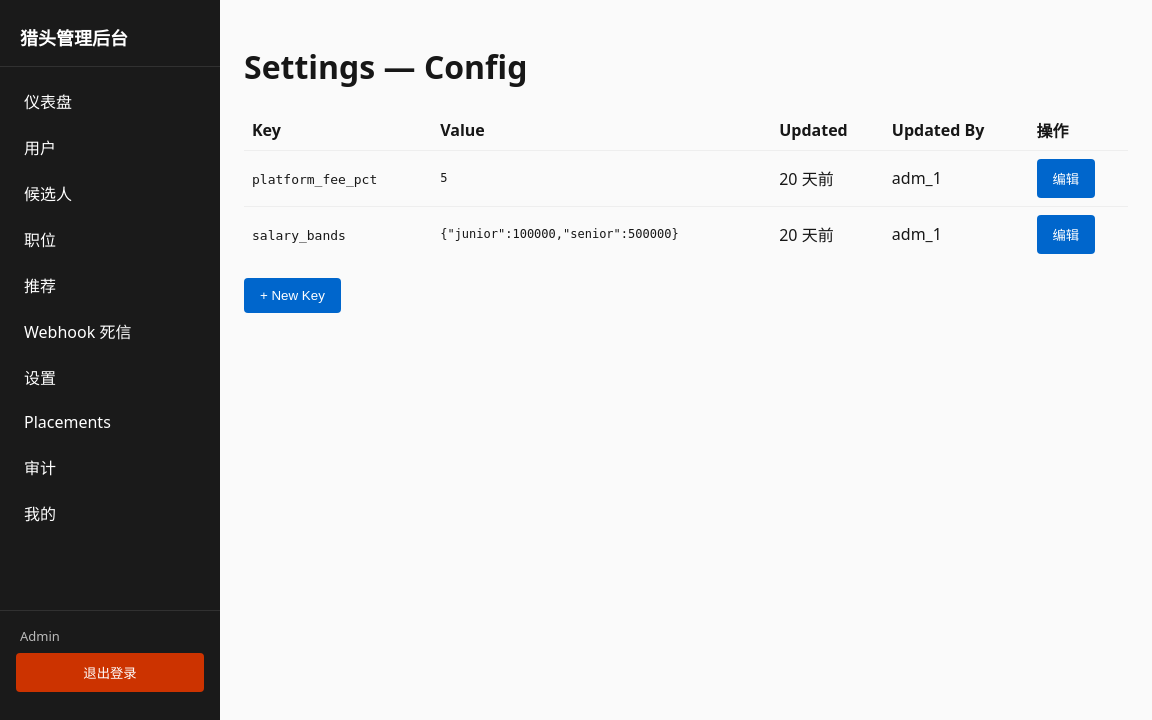
Test: SettingsPage (Sub-E Config-only) › 2. clicking 编辑 opens ConfigEditModal in edit mode (key field disabled)
Click the button with test id "config-edit-platform_fee_pct".
click(1066, 178)  # box [1036, 159, 1095, 198]
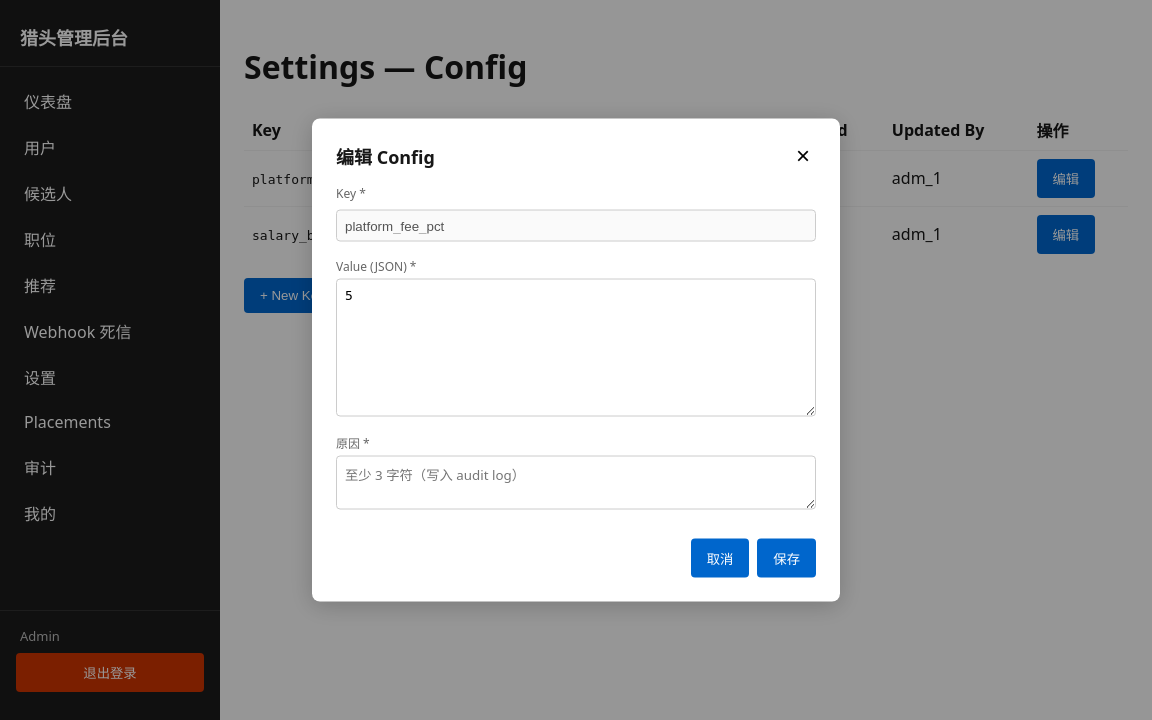
Check: the field with test id "config-key" is disabled, box [336, 210, 816, 242]
Check: the field with test id "config-key" holds "platform_fee_pct", box [336, 210, 816, 242]
Check: the text box with test id "config-value" holds "5", box [336, 278, 816, 416]
